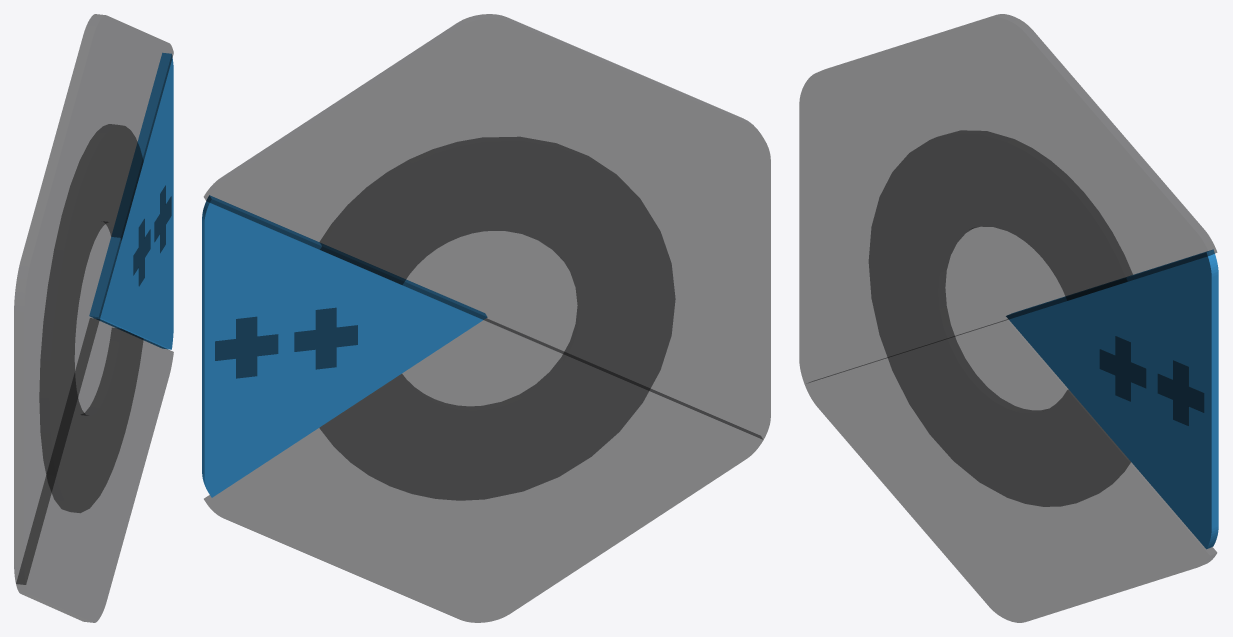
Rendered from c-plus-plus2.glb.
3 renders of one model, left to right at view 1: azimuth 30°, elevation 25°; view 2: azimuth 150°, elevation 25°; view 3: azimuth 270°, elevation 25°, orthographic.
Bounding box in the file's own units: 63.9 × 101 × 63.97.
